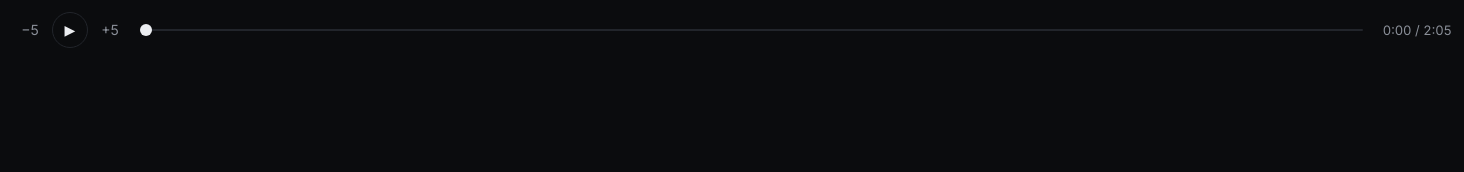
Test: Player › Infinity duration is measured on a detached element; the live one is never seeked
Expected: the text "0:00 / 2:05" is shown, [1383,21,1452,39]
Click the button named "5 saniye ileri": (110, 30) [92,12,128,48]
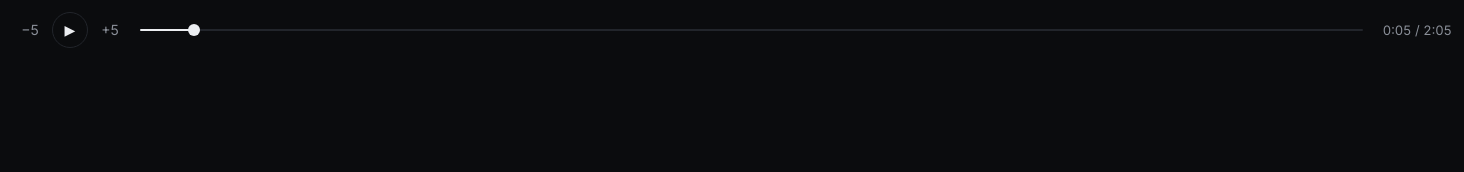
Result: the slider named "Konum" has attribute aria-valuetext="0:05 / 2:05" at [140,20,1363,40]
